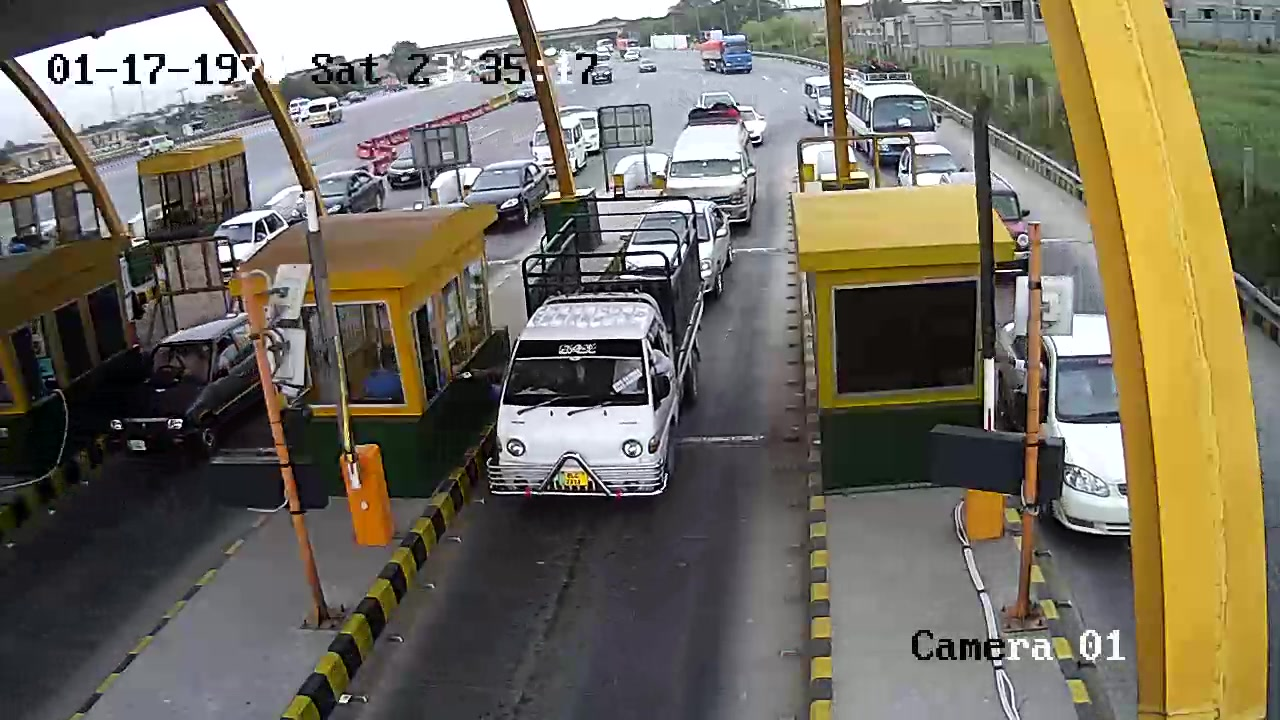F2: (482, 190, 710, 510)
